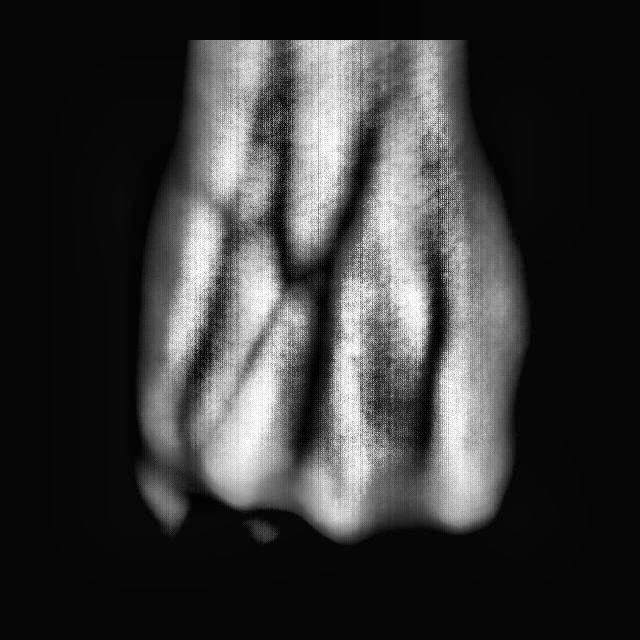Vein: (302, 159, 371, 355)
